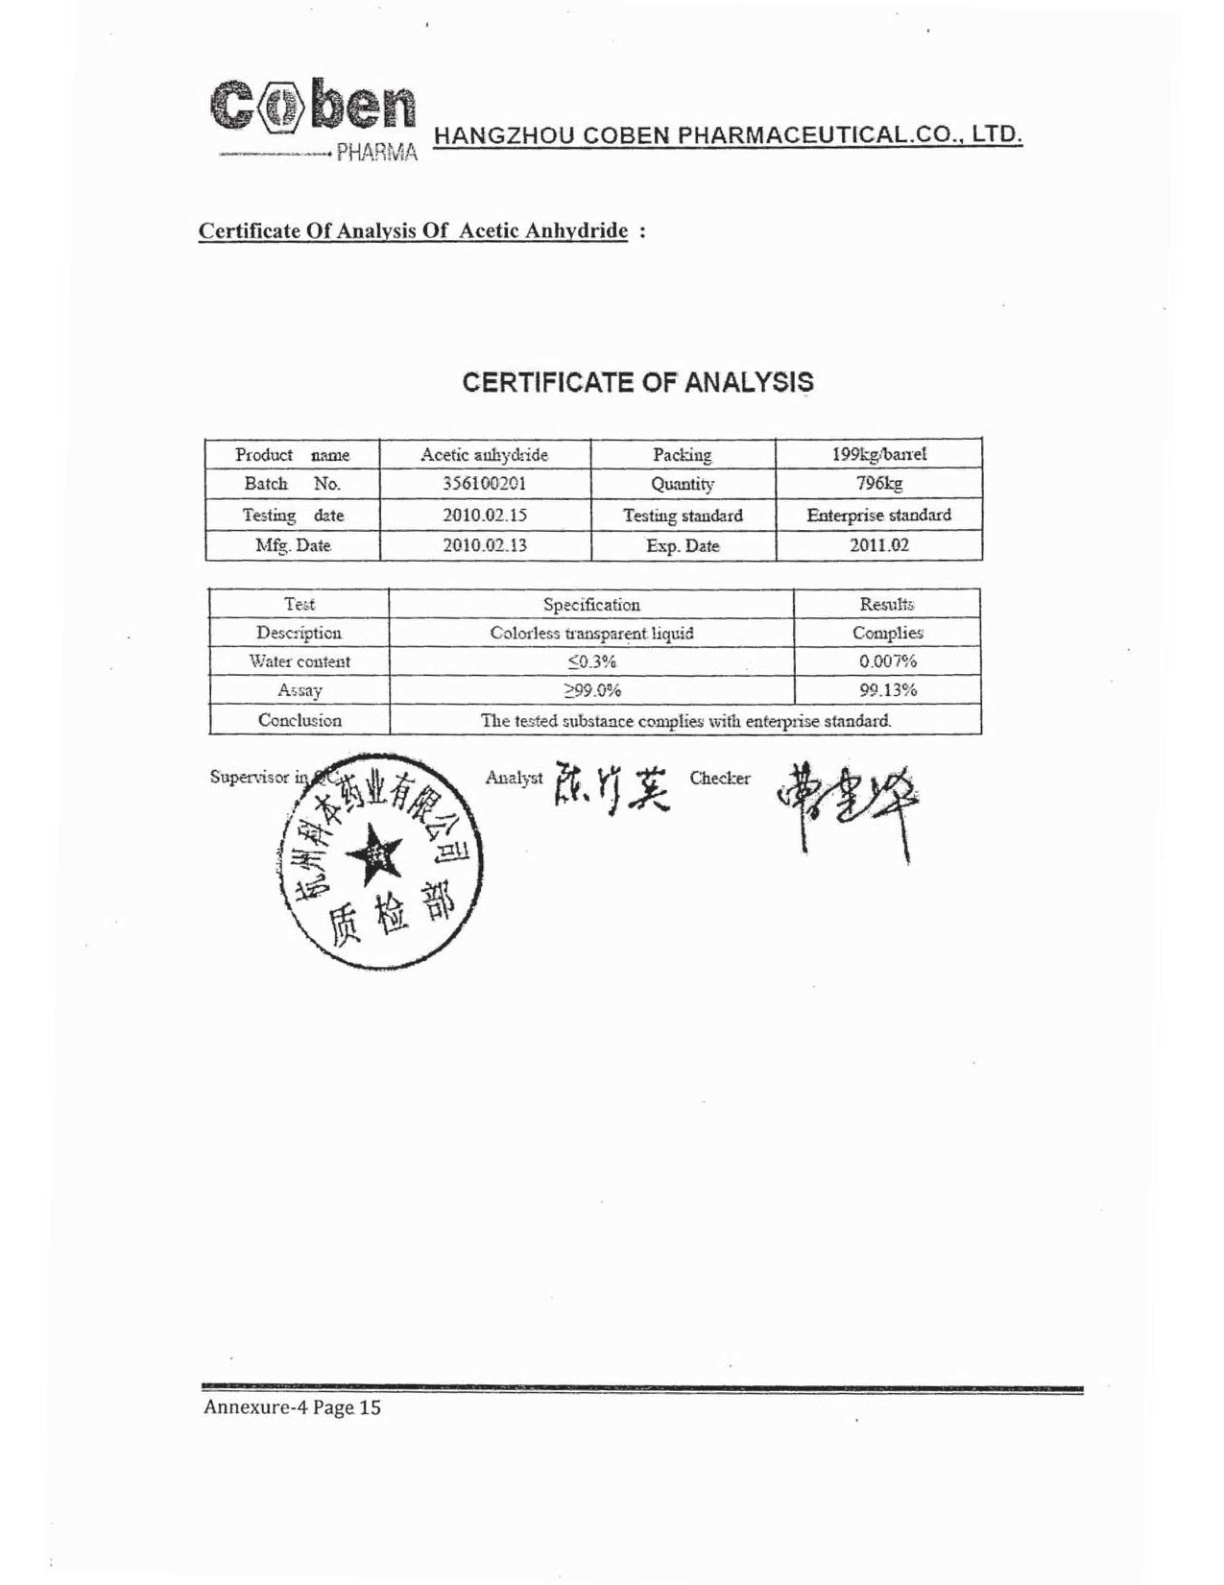full_lined: (203, 437, 985, 562)
merged_cells: (208, 587, 984, 737)
